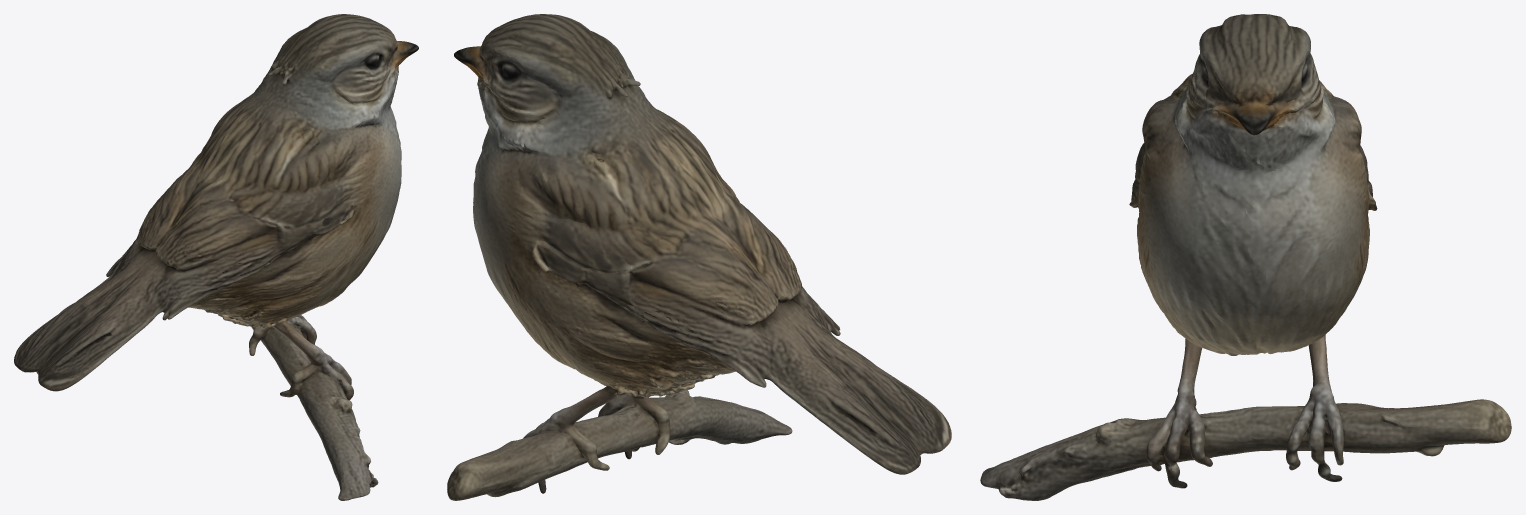
File: task-4891905.glb
The picture shows the model from 3 angles, left to right: view 1: azimuth 30°, elevation 25°; view 2: azimuth 150°, elevation 25°; view 3: azimuth 270°, elevation 25°; orthographic projection. The views are drawn at different scales.
Parts seen in each view (by area): view 1: world; view 2: world; view 3: world.
Part boxes in pixels (x1,y1,x2,y2): world: (14, 14, 418, 500); world: (447, 14, 951, 500); world: (980, 14, 1511, 500).
Bounding box in the file's own units: 0.14 × 0.1339 × 0.1237.
1 material, 1 textured.
